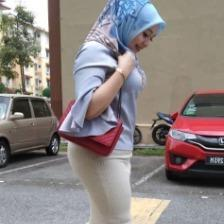Non Syar-i: (76, 0, 166, 70)
